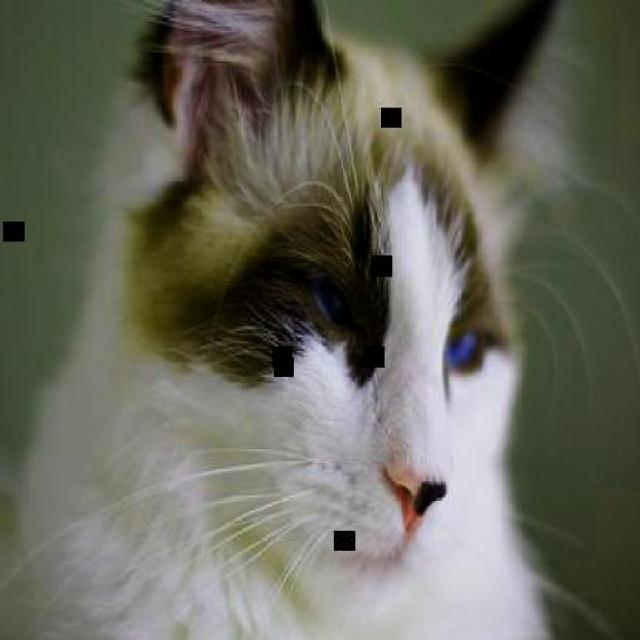cat: (15, 0, 560, 638)
